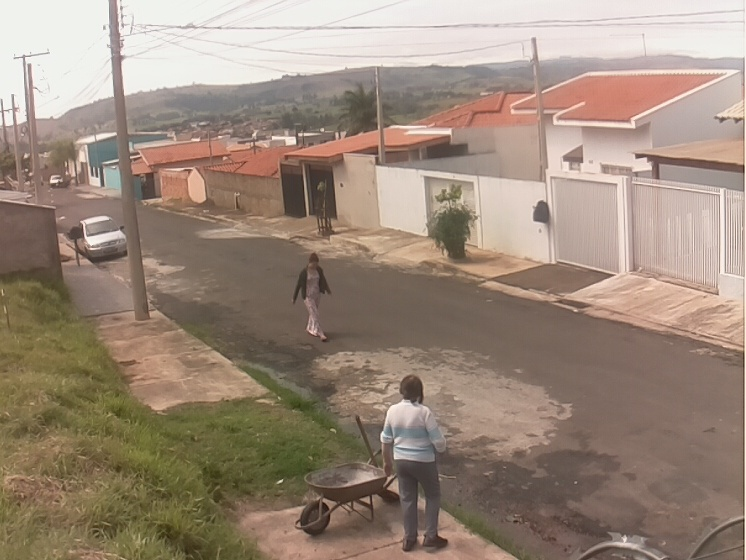person: (379, 374, 450, 552), (291, 252, 331, 342)
